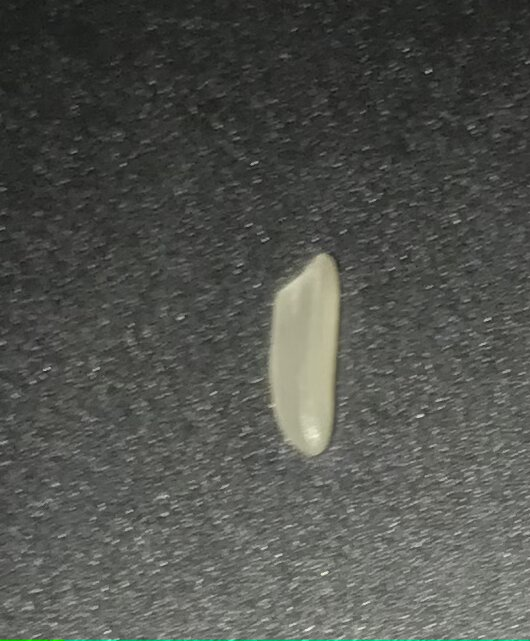Gao Long Lai: (254, 247, 360, 463)
